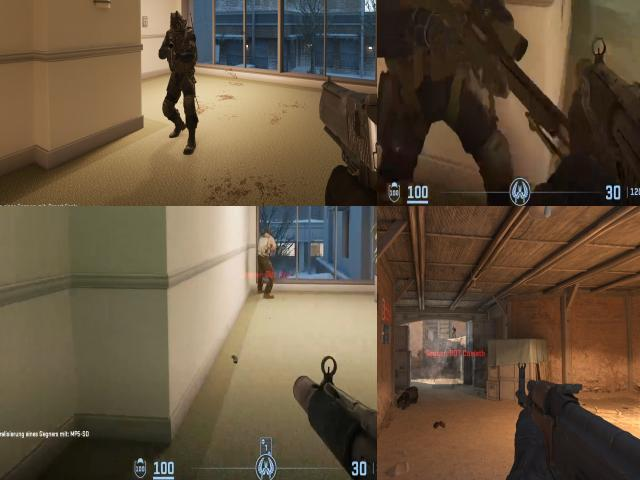CT: (377, 0, 506, 129), (168, 12, 194, 146), (452, 325, 456, 338)
CT-Head: (171, 13, 185, 32), (452, 326, 454, 327)
Dead: (397, 387, 421, 408)
T: (257, 226, 274, 268)
T-Head: (260, 227, 274, 241)
